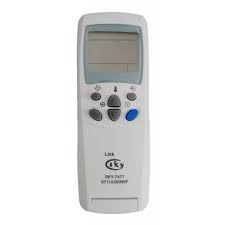remote control: (73, 13, 160, 212)
